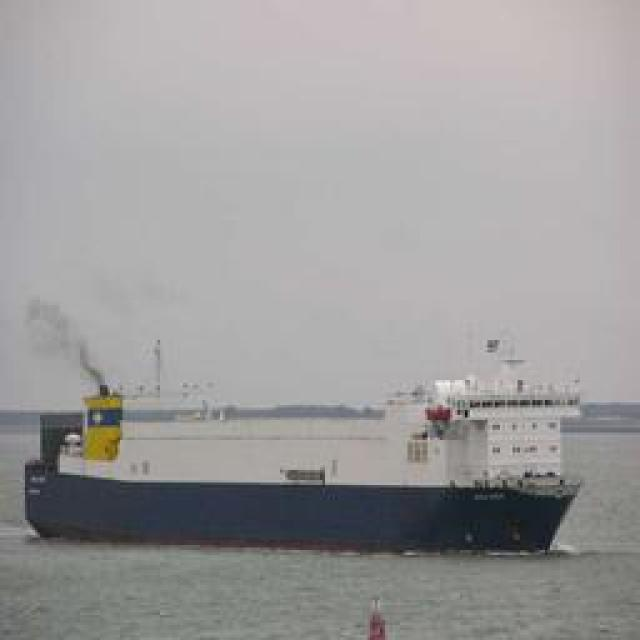CIV_Ship: (31, 391, 586, 551)
